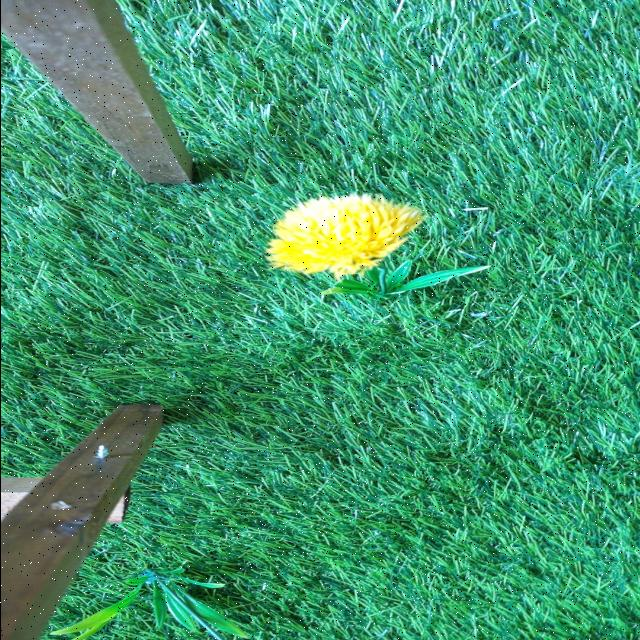base: (48, 574, 240, 640), (326, 256, 485, 304)
flower: (265, 195, 418, 278)
